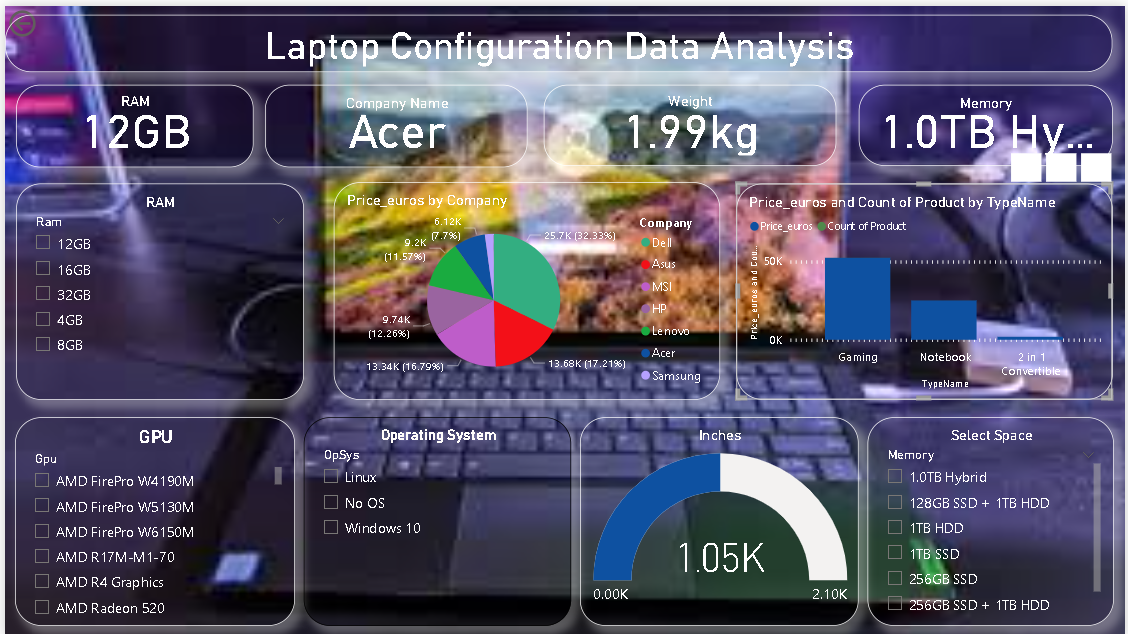

Layout of this report page (visuals, bound fields, positions):
{"tool":"powerbi","page":{"name":"Laptop data Analysis","canvas":[1280,720],"ordinal":3},"visuals":[{"type":"pieChart","fields":{"Category":["laptops.Company"],"Y":["Sum(laptops.Price_euros)"]},"box":[375.7,201.4,441.4,248.6],"z":0},{"type":"columnChart","fields":{"Y":["Sum(laptops.Price_euros)","CountNonNull(laptops.Product)"],"Category":["laptops.TypeName"]},"box":[835.7,202.9,430,247.1],"z":1000},{"type":"slicer","title":"GPU","fields":{"Values":["laptops.Gpu"]},"box":[11.4,470,320,238.6],"z":2000},{"type":"actionButton","box":[0,0,100,40],"z":3000},{"type":"slicer","title":"RAM","fields":{"Values":["laptops.Ram"]},"box":[12.9,202.9,328.6,247.1],"z":4000},{"type":"textbox","title":"Laptop Configuration Data Analysis","box":[0,10,1265.7,65.7],"z":5000},{"type":"slicer","title":"Operating System","fields":{"Values":["laptops.OpSys"]},"box":[341.4,470,305.7,238.6],"z":6000},{"type":"slicer","title":"Select Space","fields":{"Values":["laptops.Memory"]},"box":[985.7,470,281.4,238.6],"z":7000},{"type":"gauge","fields":{"Y":["Sum(laptops.Inches)"]},"box":[657.1,470,318.6,238.6],"z":8000},{"type":"card","title":"RAM","fields":{"Values":["Min(laptops.Ram)"]},"box":[12.9,90,271.4,94.3],"z":9000},{"type":"card","title":"Company Name","fields":{"Values":["Min(laptops.Company)"]},"box":[297.1,90,300,94.3],"z":9001},{"type":"card","title":"Weight","fields":{"Values":["Min(laptops.Weight)"]},"box":[615.7,90,334.3,92.9],"z":9002},{"type":"card","title":"Memory","fields":{"Values":["Min(laptops.Memory)"]},"box":[975.7,90,290,92.9],"z":9003}]}

Visuals, with their boxes in screenshot pixels (x1, y1, x2, y2), scaled from the page's 1280x720 canvas onto the 1128x634 screenshot:
pieChart - laptops.Company x Sum(laptops.Price_euros): [331,177,720,396]
columnChart - Sum(laptops.Price_euros) x CountNonNull(laptops.Product): [736,179,1115,396]
"GPU" slicer: [10,414,292,624]
actionButton: [0,0,88,35]
"RAM" slicer: [11,179,301,396]
"Laptop Configuration Data Analysis" textbox: [0,9,1115,67]
"Operating System" slicer: [301,414,570,624]
"Select Space" slicer: [869,414,1117,624]
gauge - Sum(laptops.Inches): [579,414,860,624]
"RAM" card: [11,79,251,162]
"Company Name" card: [262,79,526,162]
"Weight" card: [543,79,837,161]
"Memory" card: [860,79,1115,161]
